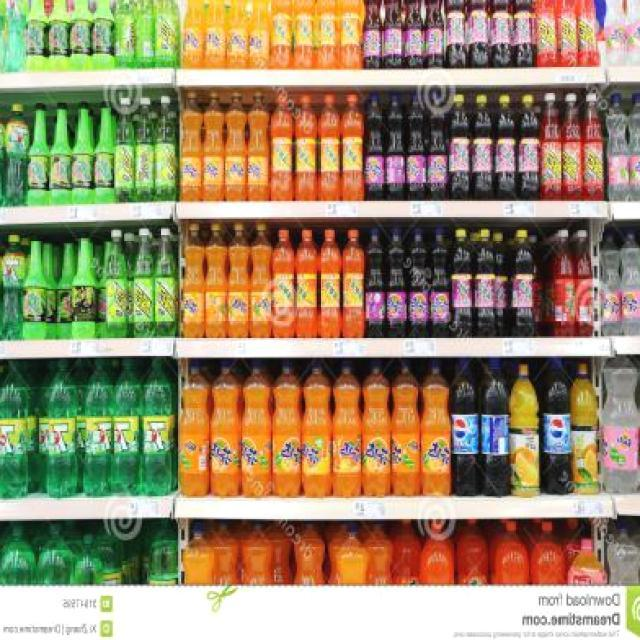Drinks: (602, 354, 640, 494), (210, 358, 242, 499), (331, 358, 362, 499), (421, 358, 452, 498), (241, 360, 272, 500), (301, 360, 332, 499), (480, 356, 510, 498), (272, 358, 302, 499), (392, 358, 422, 498), (142, 357, 172, 497), (112, 357, 142, 497), (84, 358, 114, 498), (48, 360, 78, 500), (450, 358, 480, 497), (180, 359, 210, 498), (362, 359, 392, 496), (541, 358, 571, 494), (0, 359, 29, 499), (1, 234, 26, 342), (205, 222, 228, 338), (4, 104, 30, 206), (225, 88, 248, 202), (202, 89, 225, 202), (250, 221, 272, 339), (180, 90, 203, 202), (228, 222, 250, 338), (72, 230, 95, 340), (248, 89, 270, 202), (408, 226, 430, 337), (183, 222, 204, 338), (24, 231, 46, 340), (384, 94, 406, 200), (386, 227, 407, 338), (365, 227, 386, 338), (428, 226, 449, 337), (364, 93, 385, 201), (406, 93, 427, 201), (427, 93, 448, 201), (93, 100, 114, 205), (50, 102, 71, 205), (72, 101, 93, 204), (28, 104, 49, 205), (4, 0, 30, 72), (68, 0, 92, 72), (181, 0, 206, 69), (24, 0, 48, 70), (90, 0, 114, 70), (248, 0, 271, 69), (206, 0, 227, 70), (361, 0, 382, 69), (423, 0, 444, 69), (48, 0, 68, 72), (228, 0, 248, 69), (382, 0, 402, 69), (403, 0, 423, 69), (0, 102, 5, 208), (0, 0, 3, 73)
